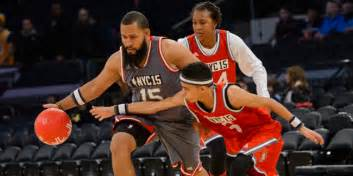basketball: (32, 107, 72, 147)
